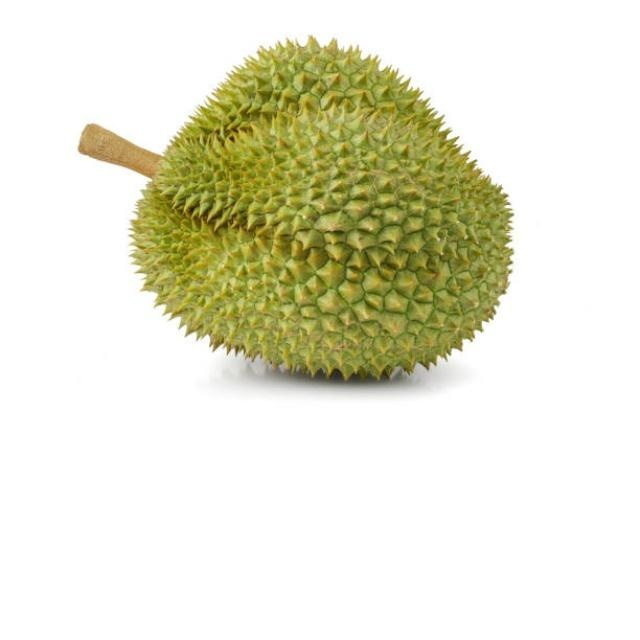tao: (118, 35, 526, 388)
